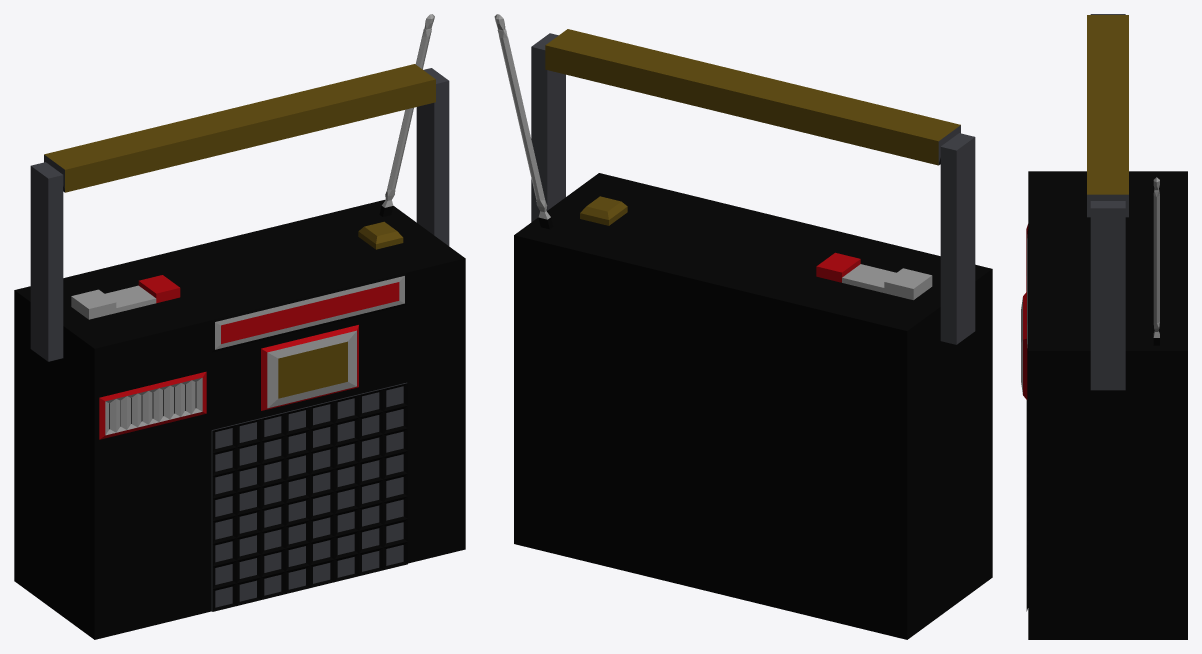
Rendered from radio.fbx.
The picture shows the model from 3 angles, left to right: view 1: azimuth 30°, elevation 25°; view 2: azimuth 150°, elevation 25°; view 3: azimuth 270°, elevation 25°; orthographic projection. The views are drawn at different scales.
Parts seen in each view (by area): view 1: Cube.001; view 2: Cube.001; view 3: Cube.001.
Part boxes in pixels (<box>): Cube.001: <box>14,14,465,639</box>; Cube.001: <box>494,14,992,639</box>; Cube.001: <box>1021,14,1187,639</box>.
Bounding box in the file's own units: 45.28 × 49.51 × 15.68.
